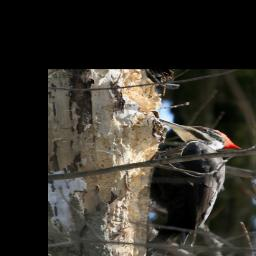Woodpecker: (147, 119, 243, 256)
